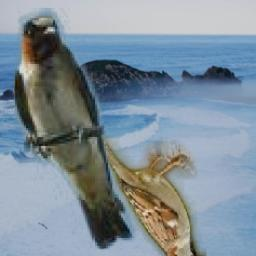Sparrow: (96, 135, 206, 256)
Swallow: (14, 9, 139, 250)
